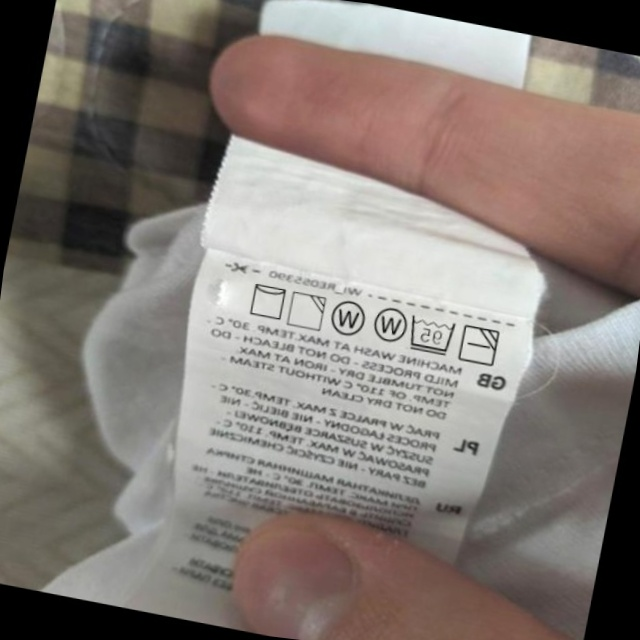95C: (404, 311, 459, 358)
dry_flat_in_shade: (456, 320, 503, 370)
line_dry: (244, 278, 290, 323)
shade_dry: (284, 288, 329, 334)
wet_clean: (326, 296, 369, 342), (368, 300, 410, 347)
